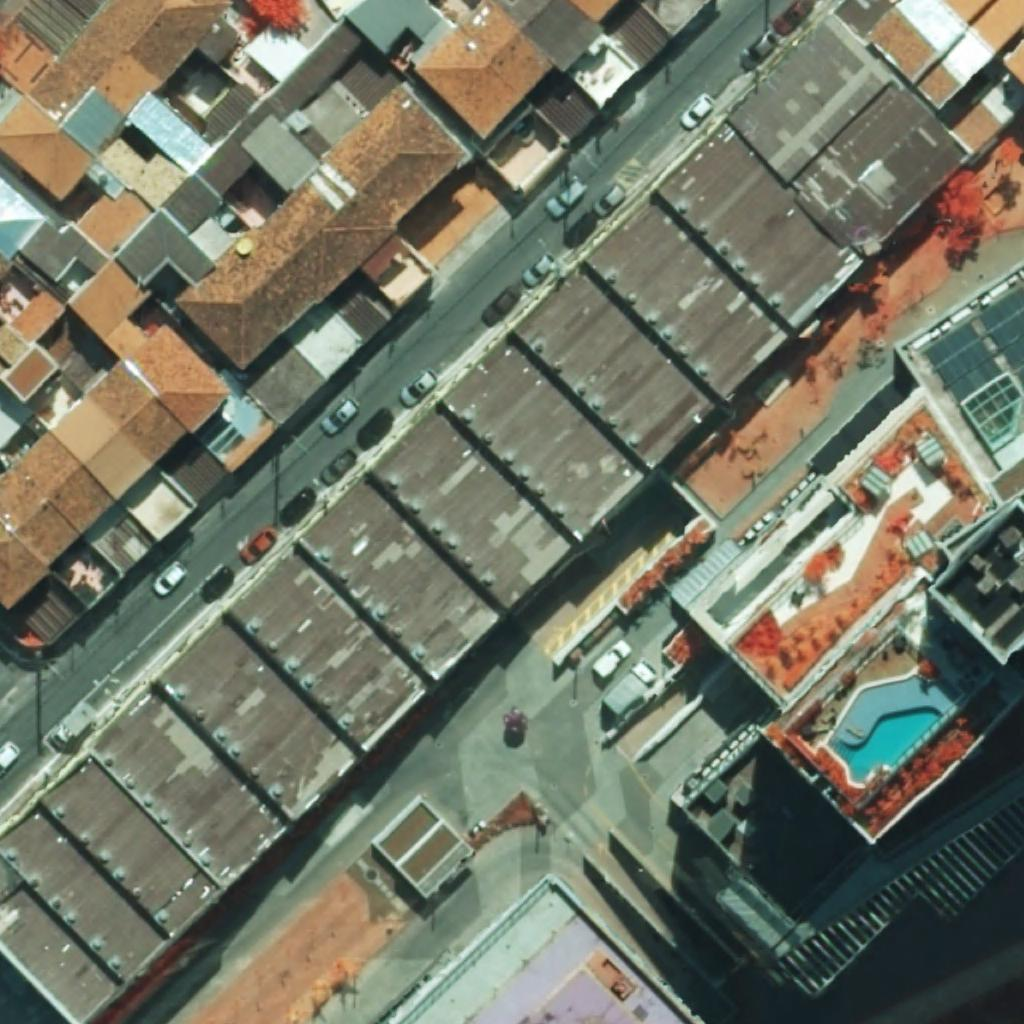pool: (827, 674, 966, 784)
